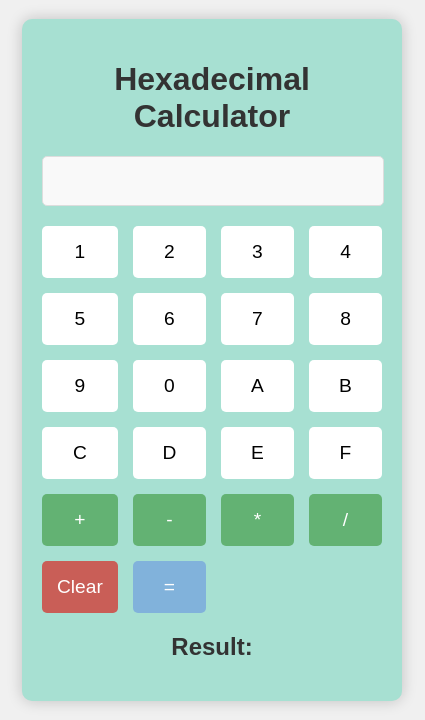
template spec › Subtraction1
The width and height of the screenshot is (425, 720).
Step 1. Click the button "F" → coordinates (346, 453), box [309,427,382,479]
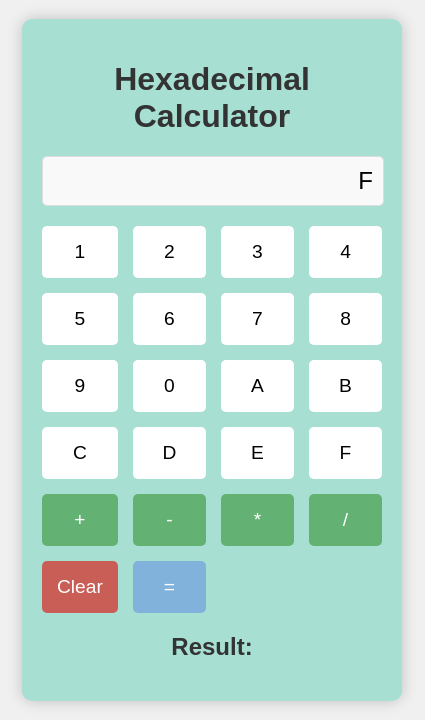
Step 2. Click the button "-" → coordinates (170, 520), box [133,494,206,546]
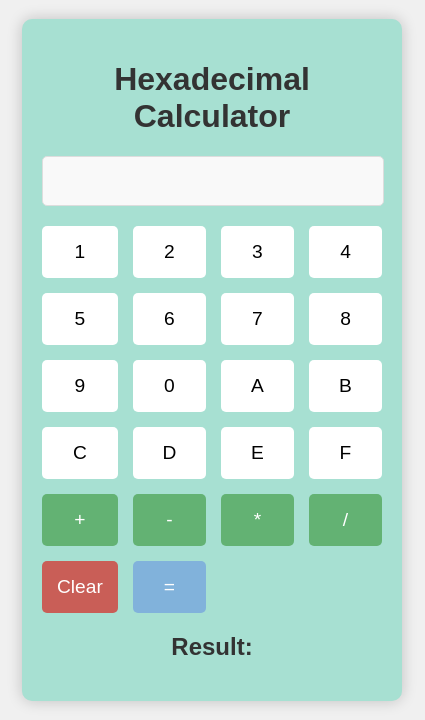
Step 3. Click the button "1" → coordinates (80, 252), box [42,226,118,278]
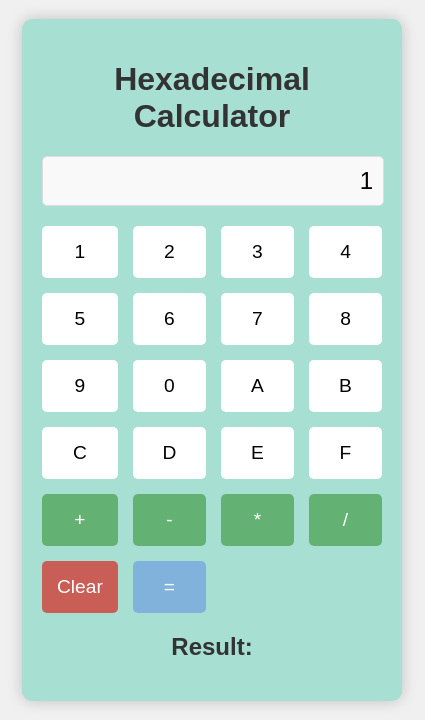
Step 4. Click the button "=" → coordinates (170, 587), box [133,561,206,613]
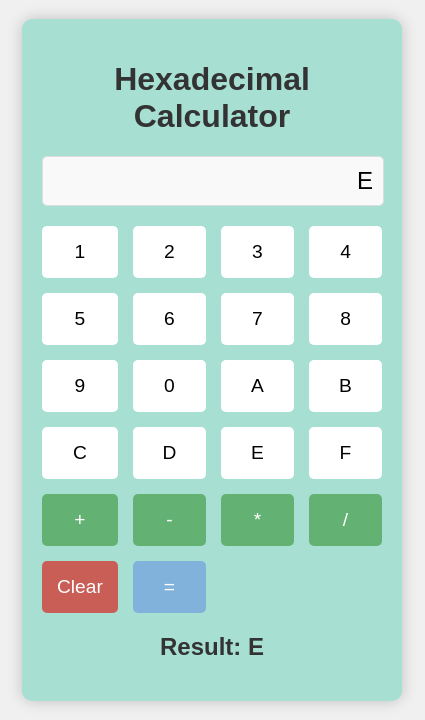
expect the field holds "E": met, box [42,156,384,206]
